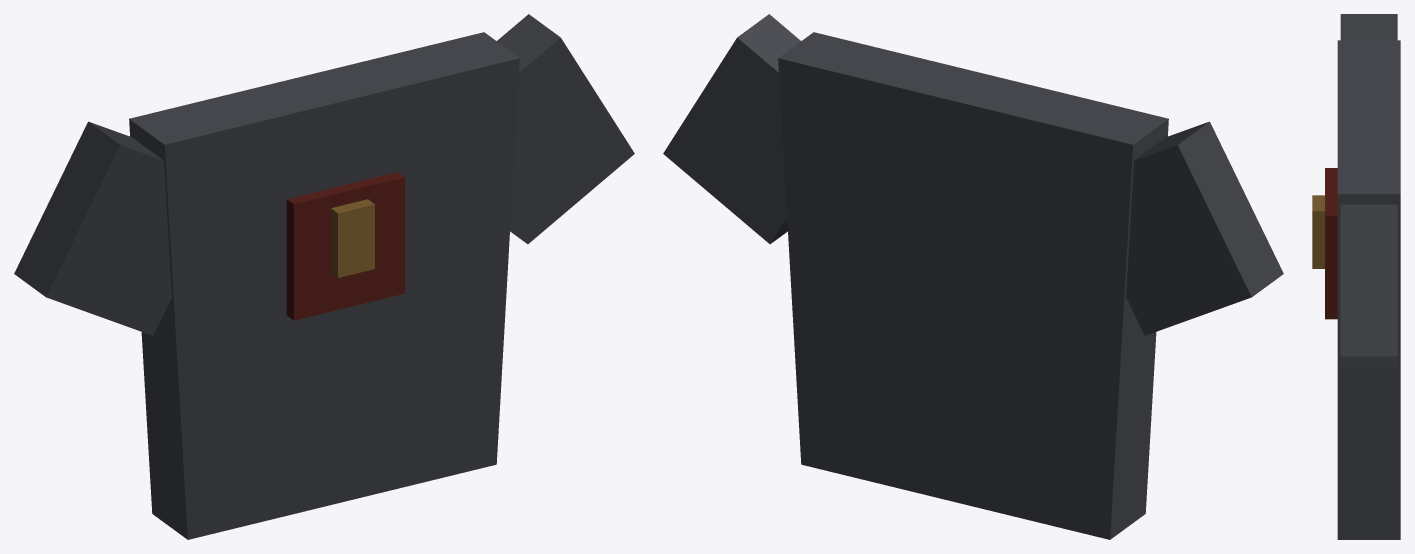
Rendered from warden_hauberk.glb.
The picture shows the model from 3 angles, left to right: view 1: azimuth 30°, elevation 25°; view 2: azimuth 150°, elevation 25°; view 3: azimuth 270°, elevation 25°; orthographic projection. The views are drawn at different scales.
Visible parts, largest first — view 1: WardenHauberk; view 2: WardenHauberk; view 3: WardenHauberk.
Part boxes in pixels (box(x1,y1,x2,y2)): WardenHauberk: box(14, 14, 634, 539); WardenHauberk: box(663, 14, 1283, 539); WardenHauberk: box(1312, 14, 1400, 539).
Size of the model in its own units: 0.9532 by 0.6339 by 0.14.
